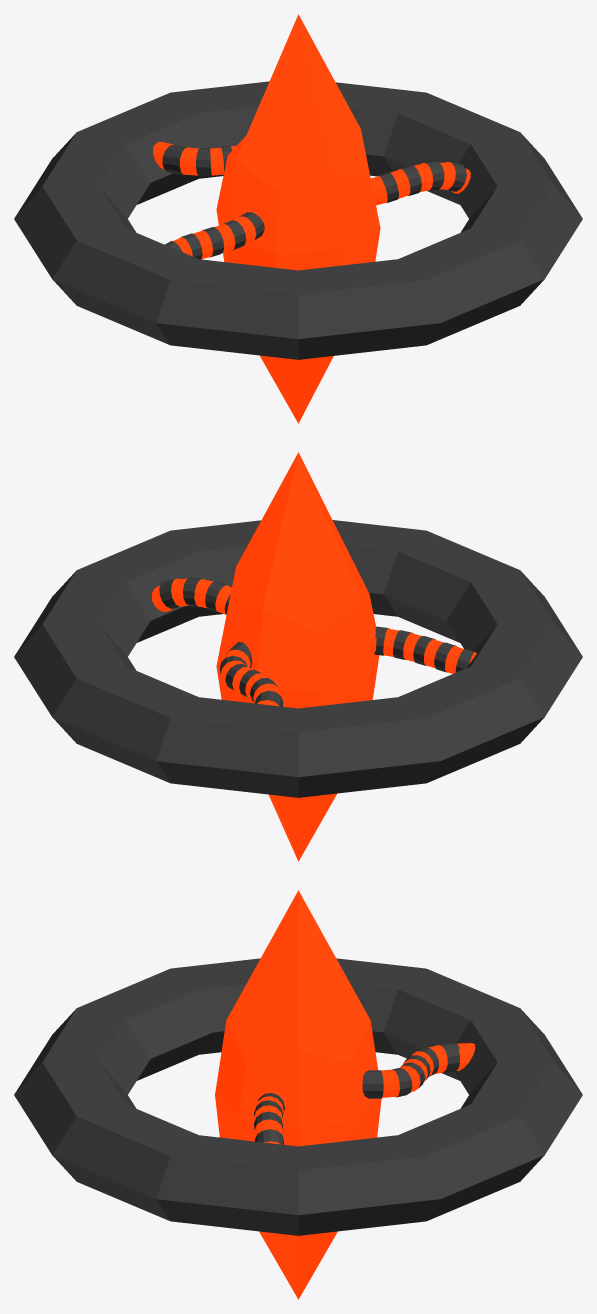
Rendered from CrystalBossFinal.fbx.
3 renders of one model, top to bottom at view 1: azimuth 30°, elevation 25°; view 2: azimuth 150°, elevation 25°; view 3: azimuth 270°, elevation 25°, orthographic.
Parts seen in each view (by area): view 1: Crystal; view 2: Crystal; view 3: Crystal.
Part boxes in pixels (left/top/right/bottom): Crystal: left=14, top=14, right=582, bottom=423; Crystal: left=14, top=452, right=582, bottom=861; Crystal: left=14, top=890, right=582, bottom=1299.
Bounding box in the file's own units: 374 × 297 × 374.
